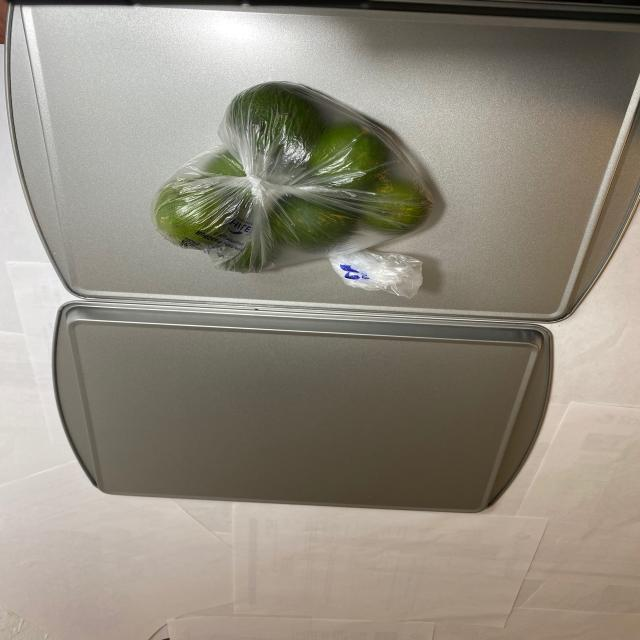lemon: (151, 79, 448, 284)
